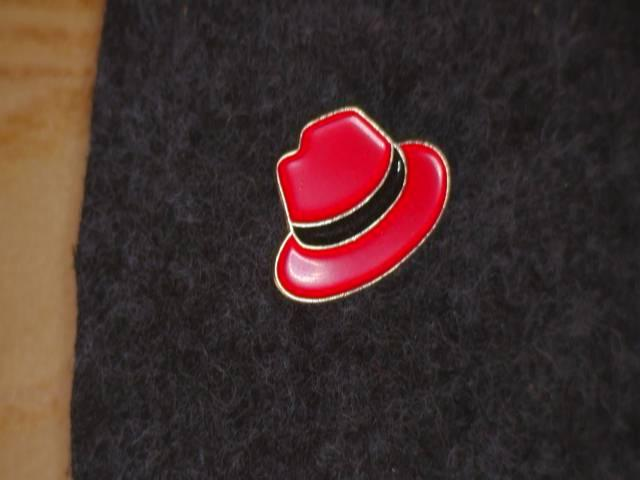Red-Hat: (243, 84, 472, 322)
